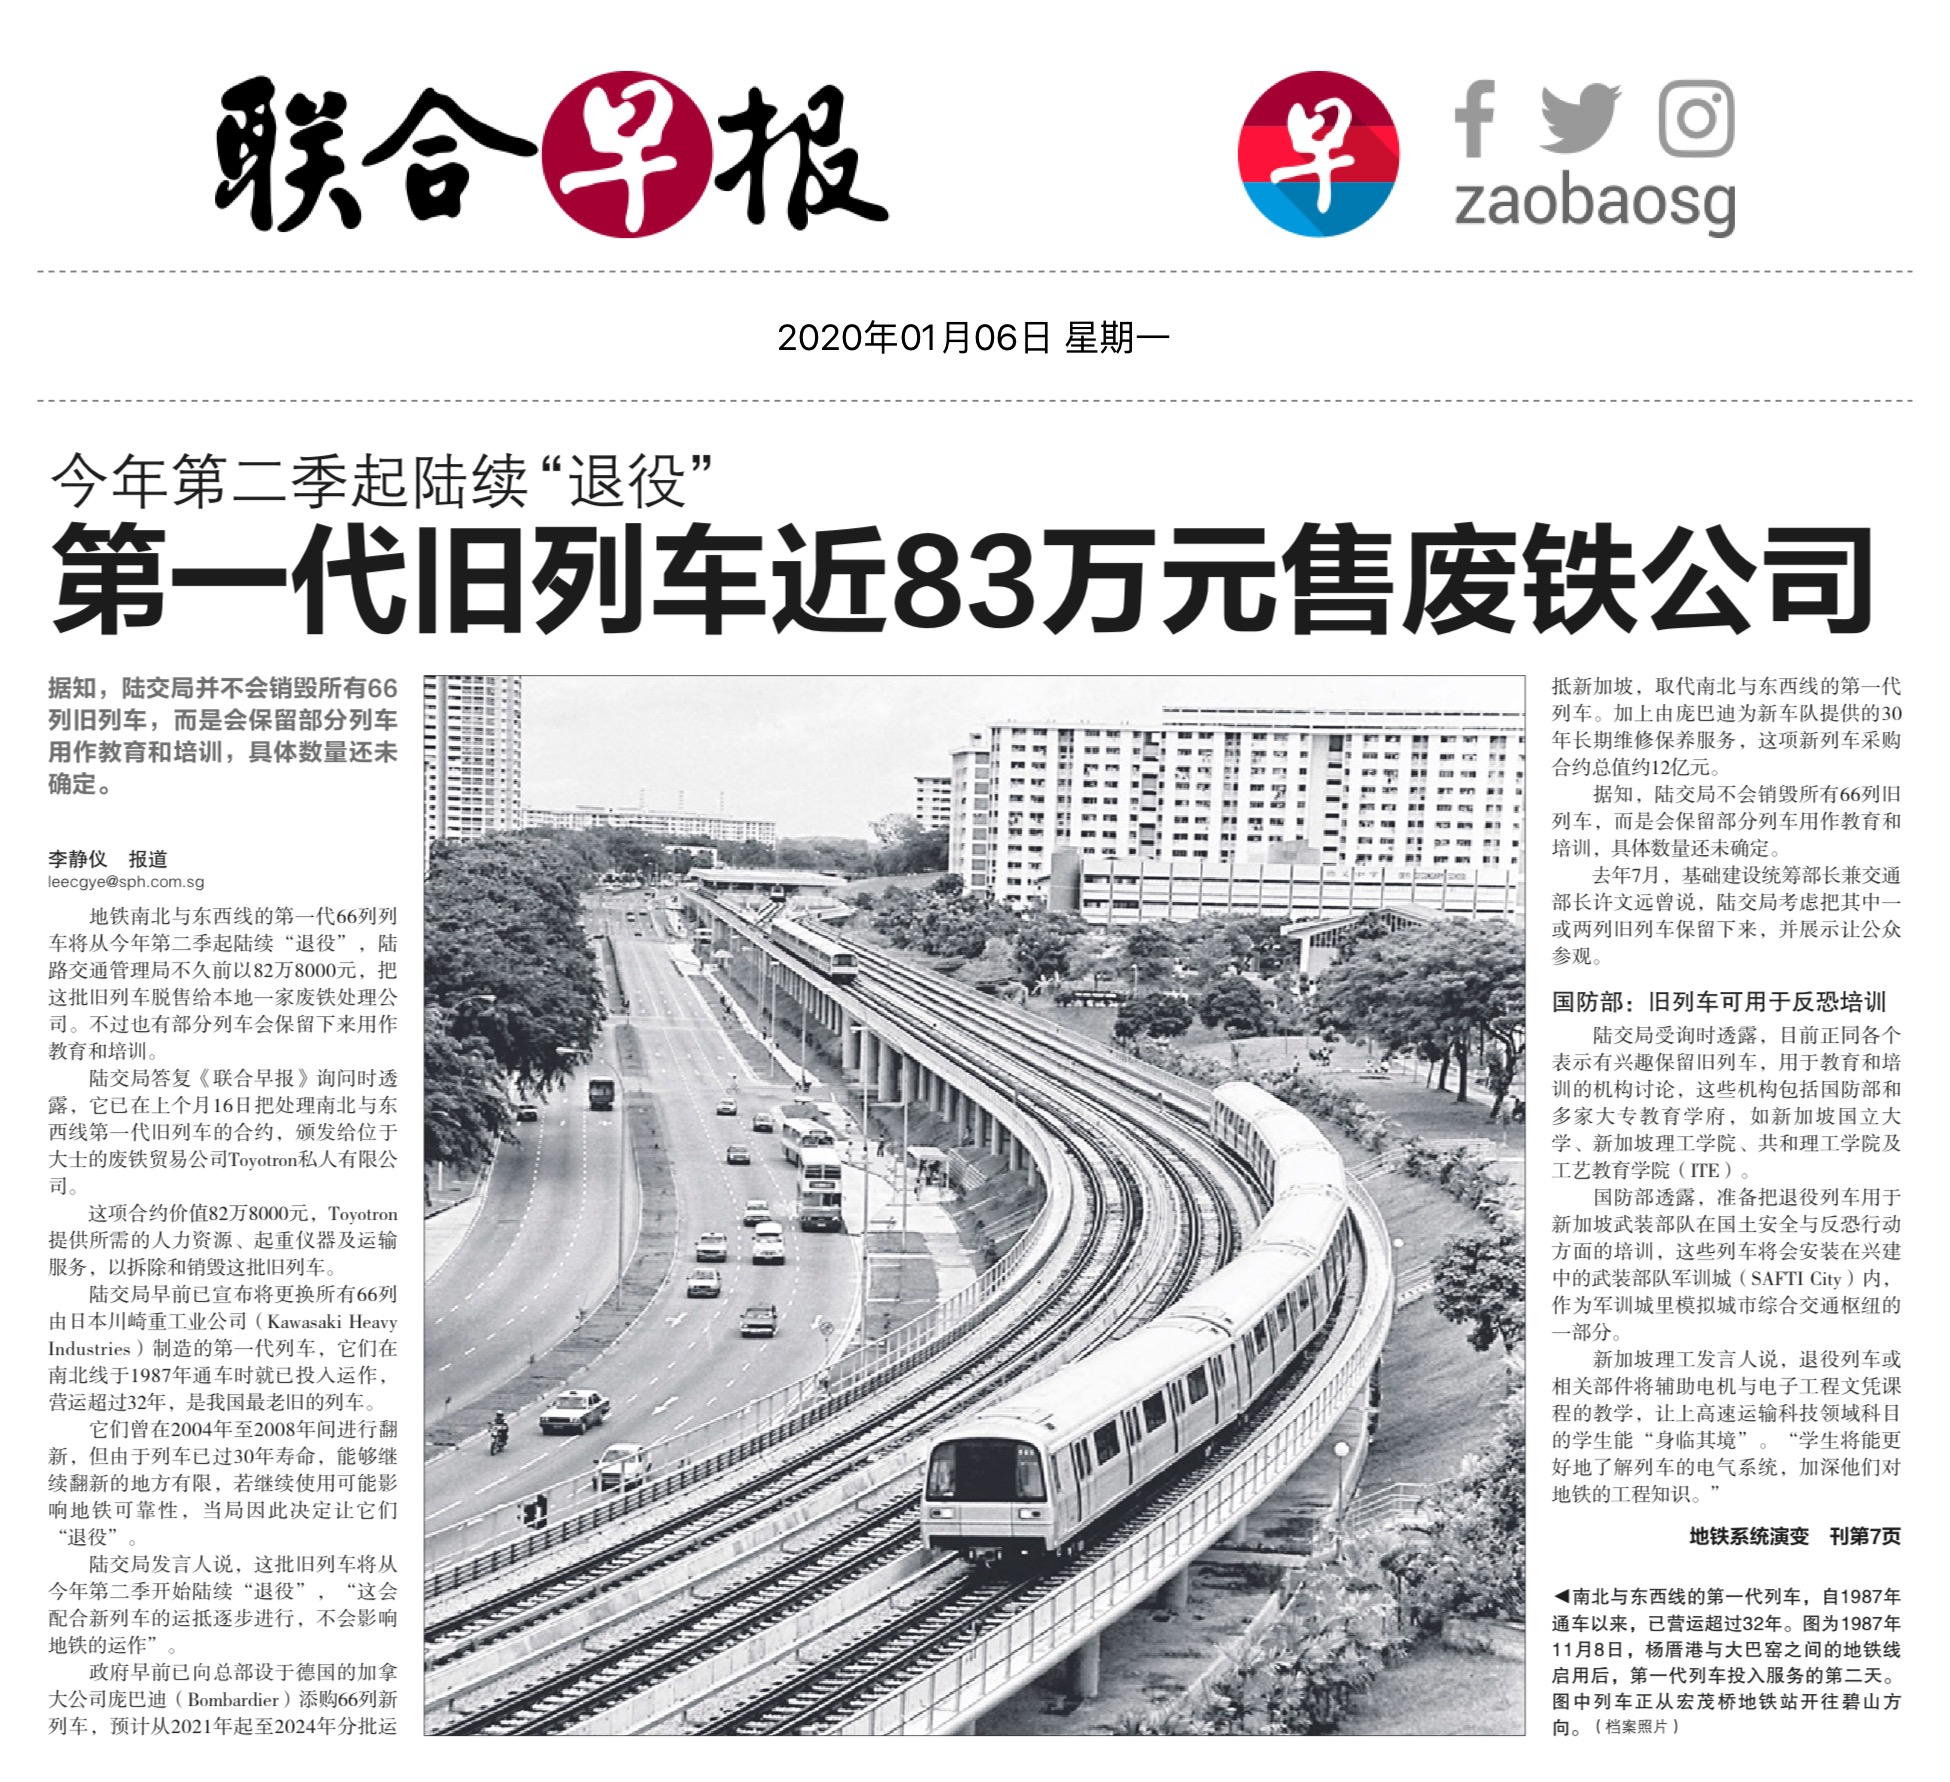heading: (44, 510, 1887, 647)
